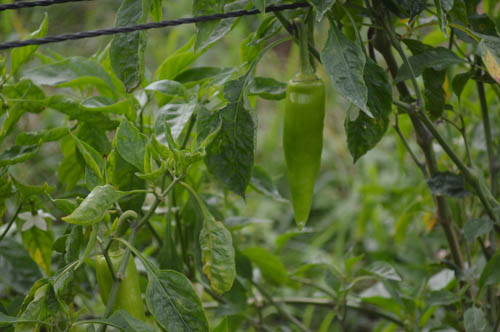ChiliPepper: (278, 81, 329, 235), (99, 256, 147, 324)
